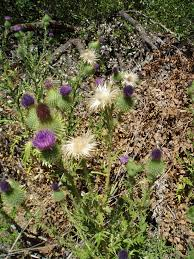bull thistle: (31, 128, 63, 167), (35, 103, 63, 130), (1, 180, 25, 208), (147, 147, 166, 178), (115, 85, 134, 112), (21, 94, 36, 125), (59, 85, 73, 110)
